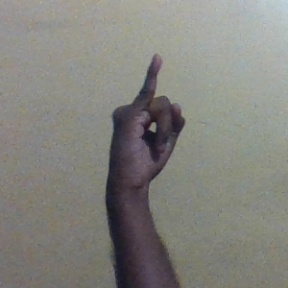I: (103, 52, 187, 190)
